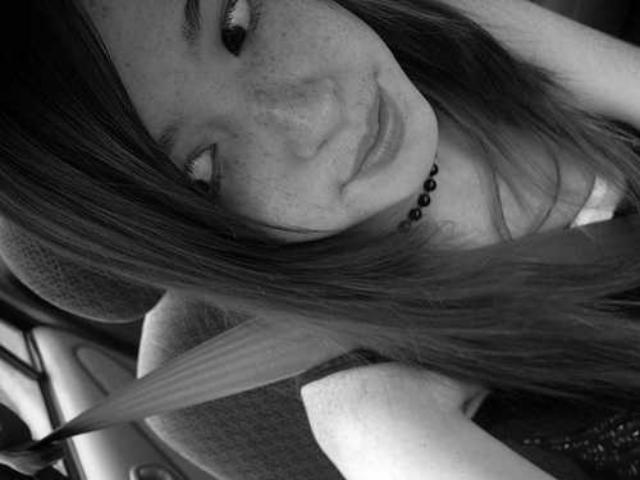Seatbelt: (0, 304, 364, 480)
